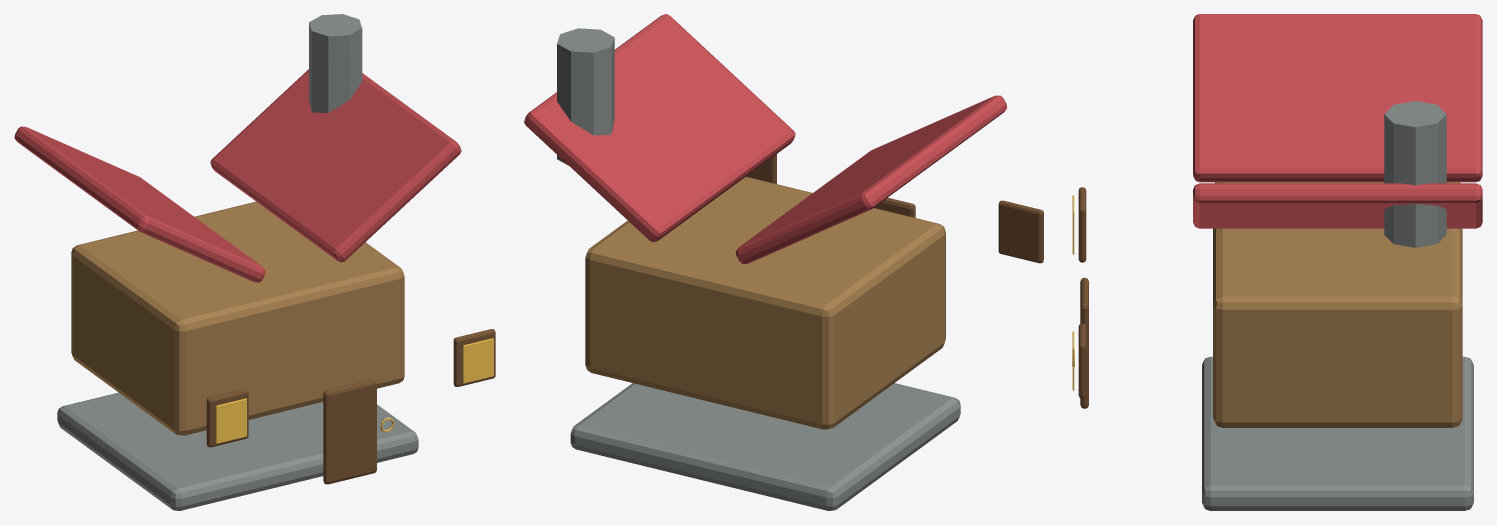
The model's file is cottage_red.glb.
3 views of the same model, side by side, from view 1: azimuth 30°, elevation 25°; view 2: azimuth 150°, elevation 25°; view 3: azimuth 270°, elevation 25° (orthographic). The views are drawn at different scales.
Parts seen in each view (by area): view 1: House, RoofR, Foundation, RoofL, Door, Chimney, WindowGlow, WindowGlow.001, WindowFrame, WindowFrame.001; view 2: House, RoofR, Foundation, RoofL, Chimney, WindowFrame; view 3: House, RoofL, Foundation, RoofR, Chimney, Door, WindowFrame.001, WindowFrame.
Part boxes in pixels (x1=…): House: x1=71, y1=201, x2=404, y2=435; RoofR: x1=210, y1=69, x2=461, y2=262; Foundation: x1=57, y1=392, x2=418, y2=510; RoofL: x1=14, y1=126, x2=265, y2=282; Door: x1=323, y1=379, x2=376, y2=484; Chimney: x1=309, y1=14, x2=362, y2=112; WindowGlow: x1=216, y1=398, x2=246, y2=443; WindowGlow.001: x1=463, y1=338, x2=493, y2=383; WindowFrame: x1=206, y1=389, x2=248, y2=447; WindowFrame.001: x1=453, y1=329, x2=495, y2=386; House: x1=585, y1=176, x2=945, y2=429; RoofR: x1=524, y1=14, x2=795, y2=242; Foundation: x1=570, y1=383, x2=960, y2=510; RoofL: x1=735, y1=95, x2=1007, y2=263; Chimney: x1=557, y1=28, x2=614, y2=165; WindowFrame: x1=998, y1=200, x2=1043, y2=263; House: x1=1213, y1=182, x2=1462, y2=427; RoofL: x1=1193, y1=14, x2=1482, y2=182; Foundation: x1=1202, y1=356, x2=1473, y2=510; RoofR: x1=1193, y1=183, x2=1482, y2=228; Chimney: x1=1384, y1=101, x2=1446, y2=247; Door: x1=1080, y1=277, x2=1088, y2=408; WindowFrame.001: x1=1078, y1=323, x2=1086, y2=398; WindowFrame: x1=1078, y1=187, x2=1086, y2=262.
Bounding box in the file's own units: 3.8 × 4.02 × 3.7.
